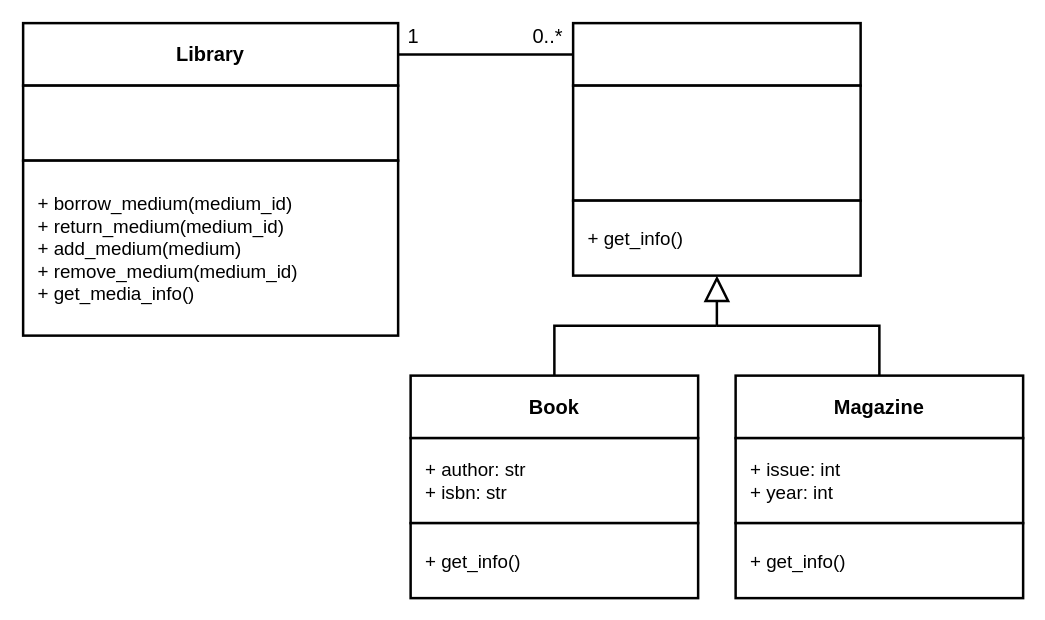
Image size: 1045x620. Some labels were removed from this diagram. Here are the shapes that lost their labels. From the top down, the centre of each, then its label:
point 716,53: Medium
point 210,122: + media_collection: list
point 716,142: + title: str + medium_id: int + available: bool
